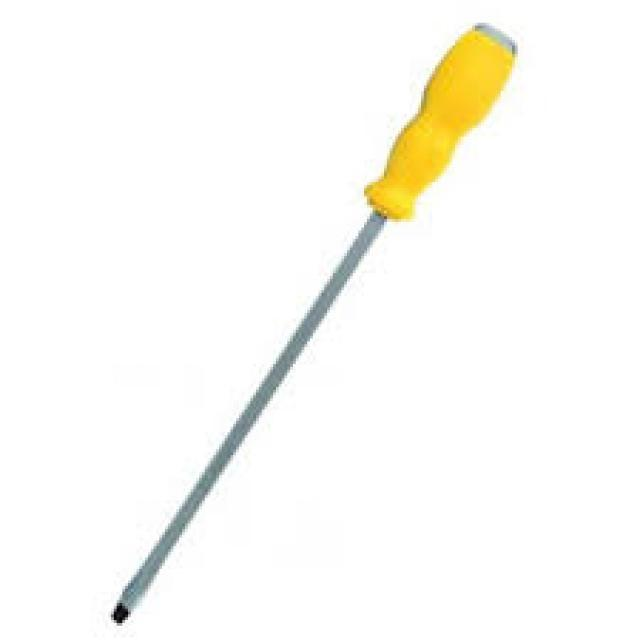screwdriver: (108, 20, 518, 626)
